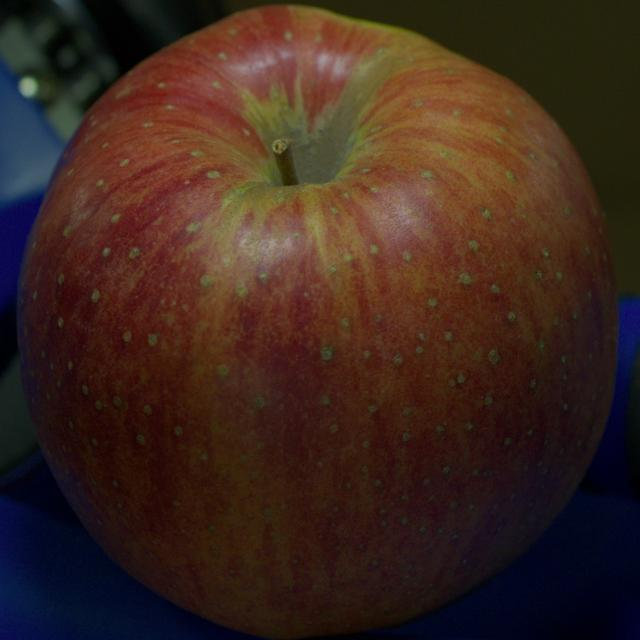apple: (18, 6, 618, 638)
